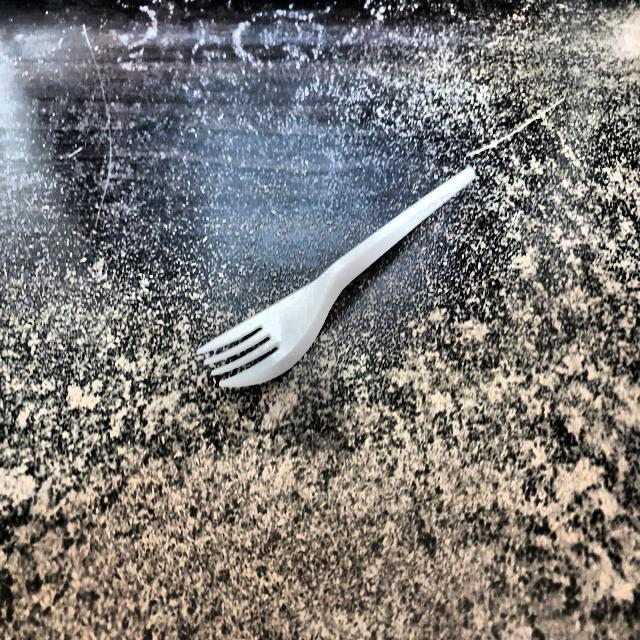plastic utensil: (198, 166, 475, 396)
